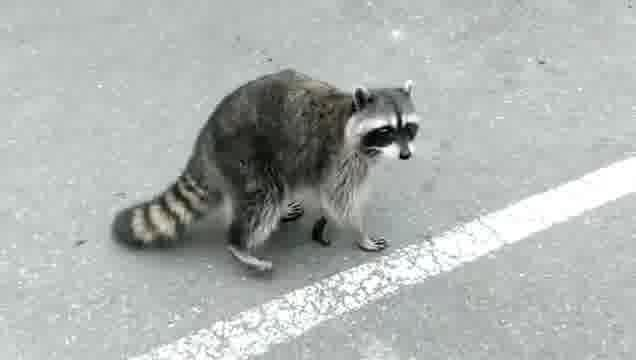raccoon: (111, 68, 420, 273)
